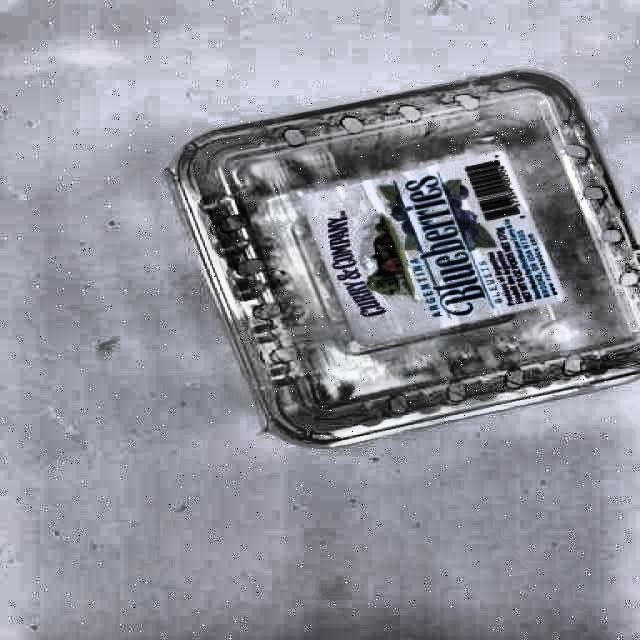plastic: (172, 71, 639, 445)
